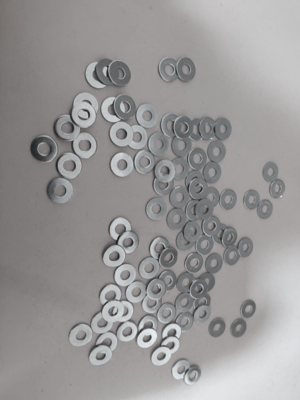circle: (30, 135, 59, 164), (54, 115, 82, 142), (56, 153, 83, 180), (47, 178, 74, 205), (72, 132, 98, 160), (72, 93, 99, 119), (107, 61, 132, 87), (109, 122, 134, 148), (71, 104, 97, 129), (86, 62, 110, 89), (108, 217, 133, 242), (68, 324, 94, 348), (97, 59, 120, 86), (113, 96, 137, 121), (110, 153, 134, 178), (94, 331, 119, 355), (102, 97, 125, 123), (113, 264, 137, 288), (90, 312, 115, 335), (126, 126, 149, 150), (145, 198, 168, 222), (116, 232, 140, 255), (99, 284, 123, 307), (158, 58, 180, 83), (137, 104, 159, 129), (154, 159, 176, 184), (161, 114, 183, 139), (168, 186, 191, 209), (171, 135, 194, 158), (125, 281, 148, 304), (173, 312, 196, 335), (169, 158, 191, 182), (102, 246, 126, 268), (112, 301, 136, 323), (88, 346, 113, 367), (148, 134, 170, 157), (134, 152, 156, 175), (187, 148, 209, 171), (150, 346, 173, 368), (148, 237, 170, 260), (116, 321, 139, 343), (101, 301, 124, 323), (173, 116, 194, 140), (176, 58, 196, 83), (187, 117, 207, 142), (161, 322, 183, 344), (176, 273, 198, 295), (174, 292, 196, 314), (153, 174, 174, 197), (207, 141, 228, 164), (167, 209, 188, 231), (201, 216, 222, 238), (139, 258, 160, 280), (157, 303, 178, 325), (141, 294, 163, 315), (136, 329, 158, 350), (138, 315, 159, 337), (219, 189, 239, 212), (176, 230, 196, 252), (183, 221, 203, 243), (195, 234, 215, 256), (214, 118, 233, 141), (199, 117, 218, 140), (203, 162, 222, 185), (158, 248, 179, 268), (157, 271, 177, 292), (195, 200, 214, 221), (189, 179, 208, 200), (223, 246, 242, 267), (172, 360, 191, 381), (160, 337, 181, 356), (185, 253, 204, 274), (197, 272, 216, 293), (192, 292, 211, 313), (244, 189, 262, 211), (212, 224, 230, 246), (184, 365, 202, 387), (201, 188, 220, 208), (189, 279, 208, 299), (193, 305, 212, 325), (262, 162, 280, 183), (209, 318, 227, 339), (221, 228, 239, 248), (269, 179, 286, 200), (237, 238, 254, 259), (257, 200, 274, 220), (241, 300, 258, 320), (206, 254, 223, 274), (231, 319, 248, 338)
